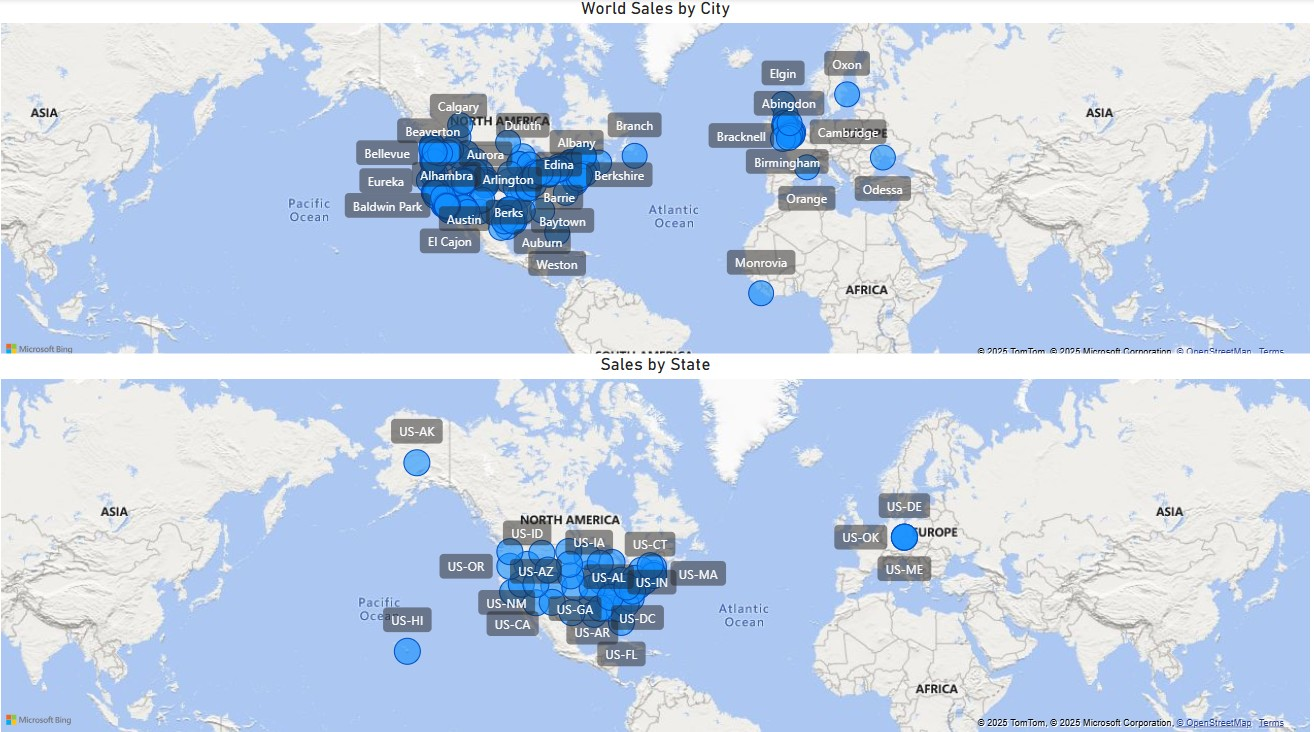

Layout of this report page (visuals, bound fields, positions):
{"tool":"powerbi","page":{"name":"Page 2","canvas":[1280,720],"ordinal":1},"visuals":[{"type":"map","title":"World Sales by City","fields":{"Category":["Merge1.City"],"Size":["Sum(Sales.LineTotal)"]},"box":[0,0,1280,360],"z":0},{"type":"map","title":"Sales by State","fields":{"Category":["Merge2 (2).State Code"],"Size":["CountNonNull(Sales by States.SalesYTD)"]},"box":[0,345,1280,375],"z":1000}]}

Visuals, with their boxes in screenshot pixels (x1, y1, x2, y2), scaled from the page's 1280x720 canvas onto the 1314x732 screenshot:
"World Sales by City" map: region(0, 0, 1313, 366)
"Sales by State" map: region(0, 351, 1313, 731)
